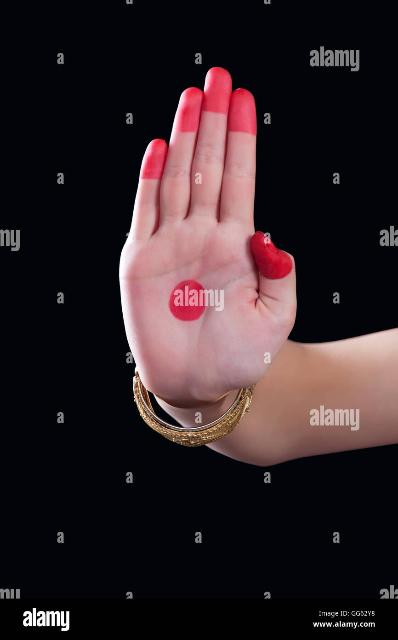pataka: (120, 70, 297, 431)
